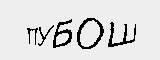Б: (51, 15, 74, 51)
О: (75, 17, 105, 53)
П: (26, 24, 39, 45)
У: (37, 24, 54, 49)
Ш: (107, 21, 138, 49)
